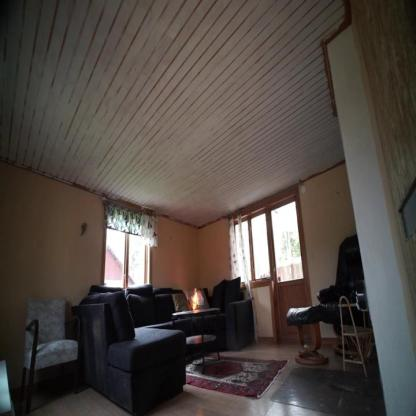fire: (191, 288, 200, 312)
